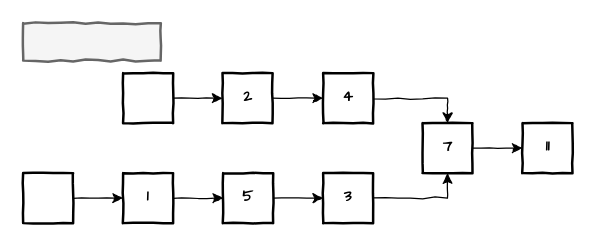
Image size: 595x245. Some labels were removed from this diagram. The box of each missing label's shape, as (x1, y1, x2, y2) in pixels:
Example: (21, 21, 161, 61)
L0: (121, 71, 174, 124)
L1: (21, 171, 74, 224)
